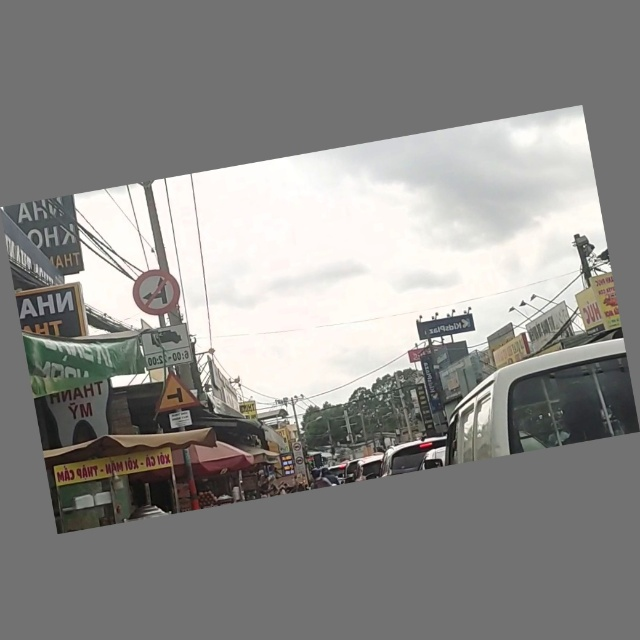P.139: (131, 269, 182, 317)
S.505a*Xe tai: (138, 326, 192, 370)
W.205b: (150, 370, 198, 414)
